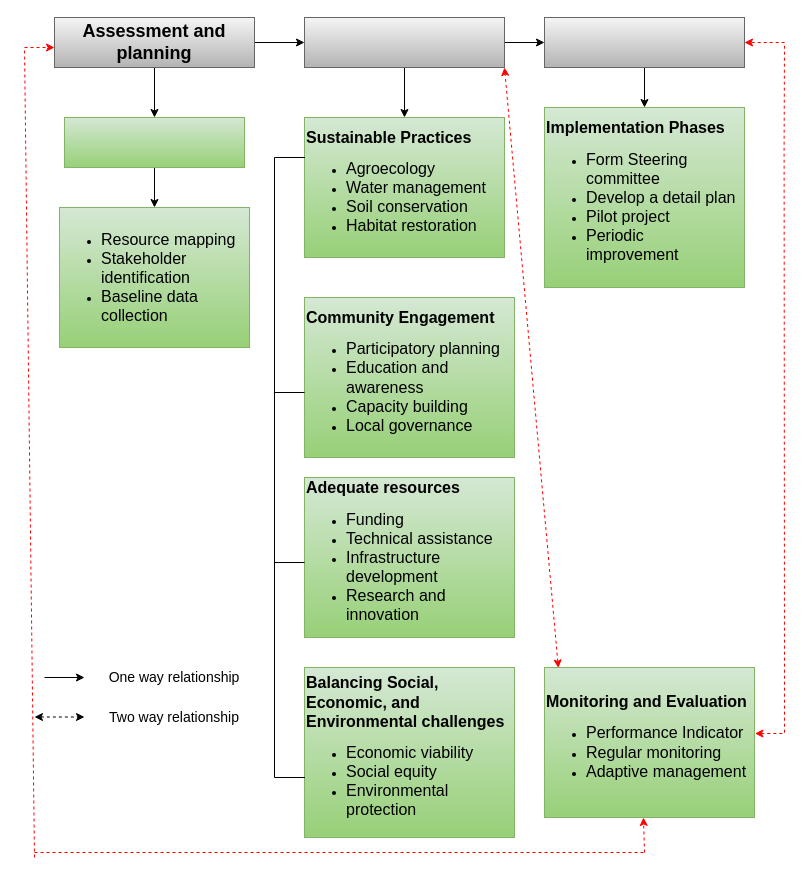
The diagram is 811 pixels wide and 878 high, and some of its shapes have lost their labels. Each missing label, with the box of its shape:
Comprehensive Assessment: (64, 116, 244, 168)
Implementation and monitoring: (544, 16, 744, 68)
Strategic planning: (304, 16, 504, 68)
